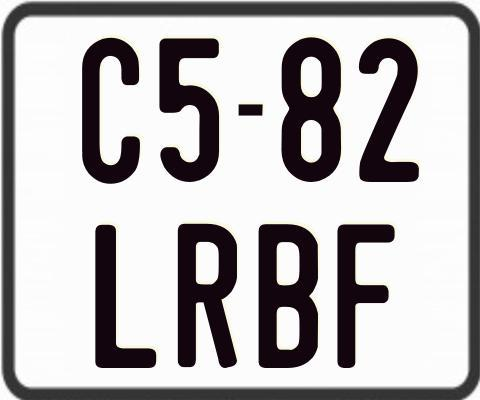2: (356, 37, 418, 182)
5: (158, 36, 220, 186)
8: (278, 35, 338, 183)
B: (258, 224, 323, 370)
C: (79, 38, 139, 187)
F: (334, 222, 392, 368)
L: (93, 222, 158, 366)
R: (178, 223, 239, 368)
